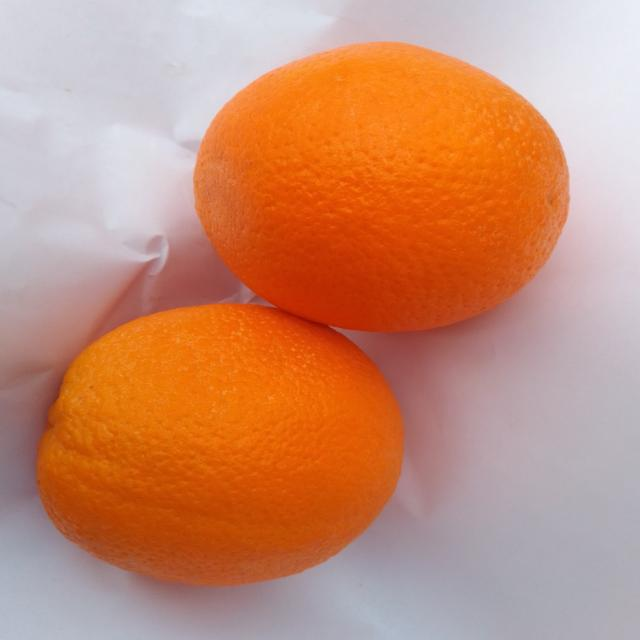orange: (195, 42, 568, 330), (38, 305, 402, 585)
